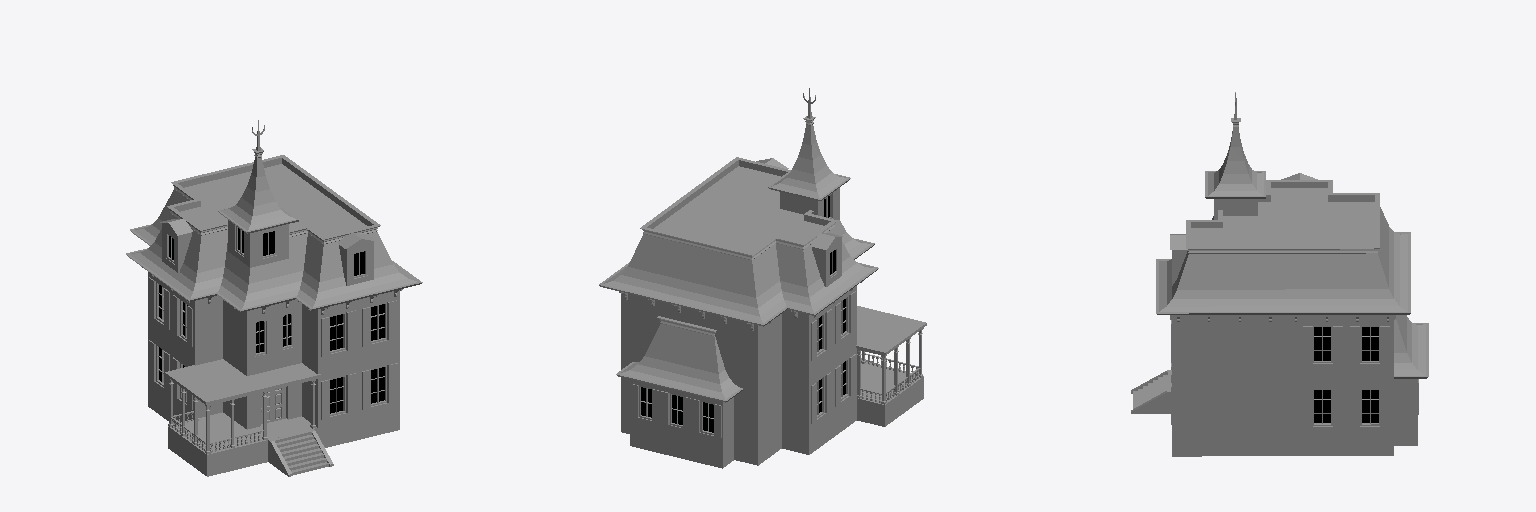
The picture shows the model from 3 angles: view 1: azimuth 30°, elevation 25°; view 2: azimuth 150°, elevation 25°; view 3: azimuth 270°, elevation 25°; orthographic projection.
Visible parts, largest first — view 1: House.001_Vert.002, Windows.001_Vert.000; view 2: House.001_Vert.002, Windows.001_Vert.000; view 3: House.001_Vert.002, Windows.001_Vert.000.
Boxes of the visible parts, x1,y1,x2,y2 form: House.001_Vert.002: [126, 120, 422, 476]; Windows.001_Vert.000: [159, 228, 384, 413]; House.001_Vert.002: [599, 88, 926, 468]; Windows.001_Vert.000: [641, 196, 845, 432]; House.001_Vert.002: [1131, 92, 1428, 456]; Windows.001_Vert.000: [1314, 327, 1378, 422].
Bounding box in the file's own units: 8.7 × 12.45 × 10.71.